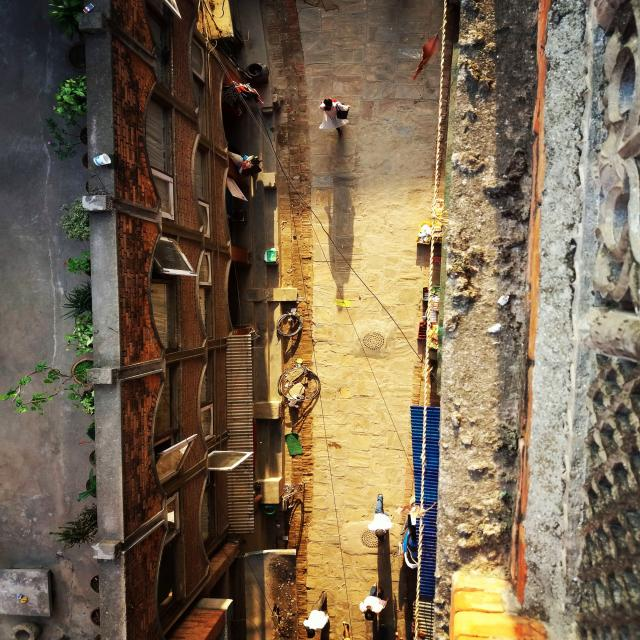adult: (317, 94, 351, 140), (302, 591, 330, 639), (358, 581, 389, 622), (367, 493, 393, 537)
